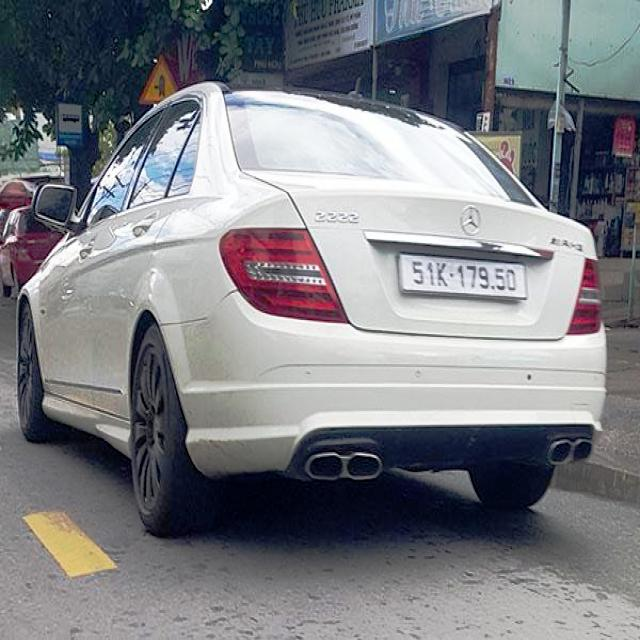license_plate: (398, 251, 527, 300)
